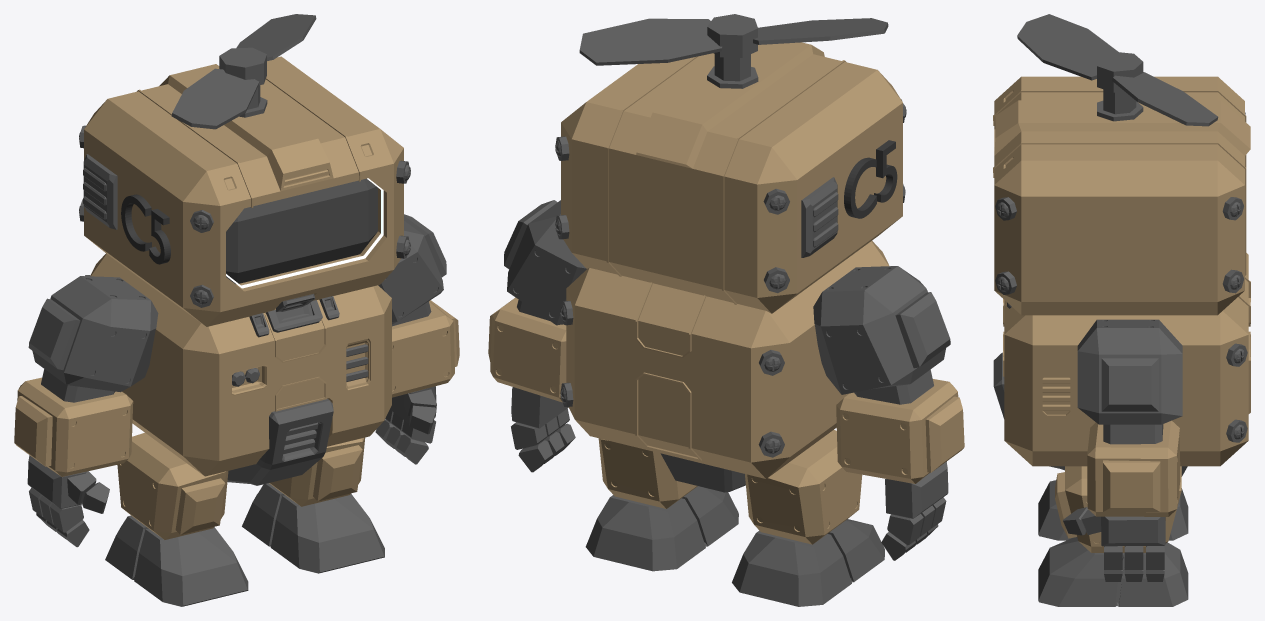
File: C5_robot_fixed.fbx
3 views of the same model, side by side, from view 1: azimuth 30°, elevation 25°; view 2: azimuth 150°, elevation 25°; view 3: azimuth 270°, elevation 25° (orthographic). The views are drawn at different scales.
Parts seen in each view (by area): view 1: Cube.041, Cube.029, Cube.014, Cube.006, Cube.024, Cube.009, Cube.026, Cube.004, Cube.012, Cube.025, Cylinder.001, Cylinder.002 (+9 smaller); view 2: Cube.041, Cube.029, Cube.014, Cube.006, Cube.024, Cube.009, Cube.026, Cube.012, Cube.004, Cylinder.002, Cube.025, Cylinder (+8 smaller); view 3: Cube.041, Cube.029, Cube.012, Cube.004, Cube.009, Cylinder.001, Cylinder.002, Cylinder, Cube.025, Cube.005, Cube.024, Cube.003 (+5 smaller).
Boxes of the visible parts, bbox=[...] form: Cube.041: bbox=[79, 56, 410, 326]; Cube.029: bbox=[85, 253, 391, 485]; Cube.014: bbox=[28, 276, 158, 392]; Cube.006: bbox=[14, 377, 133, 476]; Cube.024: bbox=[105, 515, 248, 606]; Cube.009: bbox=[242, 483, 384, 573]; Cube.026: bbox=[117, 433, 228, 539]; Cube.004: bbox=[392, 300, 459, 397]; Cube.012: bbox=[378, 214, 446, 324]; Cube.025: bbox=[269, 437, 365, 506]; Cylinder.001: bbox=[171, 68, 259, 129]; Cylinder.002: bbox=[236, 14, 316, 60]; Cube.041: bbox=[555, 42, 906, 313]; Cube.029: bbox=[560, 241, 889, 492]; Cube.014: bbox=[813, 266, 950, 394]; Cube.006: bbox=[836, 379, 964, 483]; Cube.024: bbox=[732, 519, 884, 606]; Cube.009: bbox=[585, 486, 738, 571]; Cube.026: bbox=[745, 430, 862, 544]; Cube.012: bbox=[504, 200, 586, 325]; Cube.004: bbox=[488, 297, 566, 402]; Cylinder.002: bbox=[579, 18, 722, 65]; Cube.025: bbox=[598, 438, 697, 508]; Cylinder: bbox=[707, 14, 758, 88]; Cube.041: bbox=[993, 76, 1250, 315]; Cube.029: bbox=[993, 253, 1250, 476]; Cube.012: bbox=[1077, 319, 1182, 424]; Cube.004: bbox=[1087, 420, 1180, 516]; Cube.009: bbox=[1038, 537, 1188, 606]; Cylinder.001: bbox=[1017, 14, 1118, 80]; Cylinder.002: bbox=[1112, 72, 1218, 126]; Cylinder: bbox=[1097, 51, 1143, 121]; Cube.025: bbox=[1055, 466, 1181, 552]; Cube.005: bbox=[1101, 516, 1165, 546]; Cube.024: bbox=[1038, 480, 1188, 540]; Cube.003: bbox=[1103, 424, 1163, 444].
Bounding box in the file's own units: 129 × 144 × 68.48.
